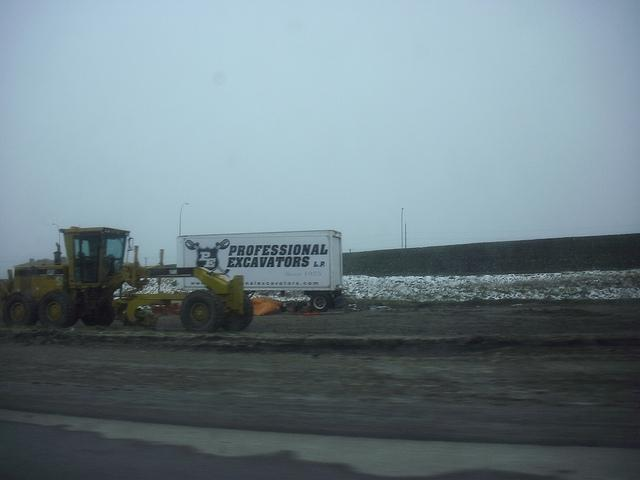truck: (5, 228, 257, 334), (175, 230, 344, 312)
